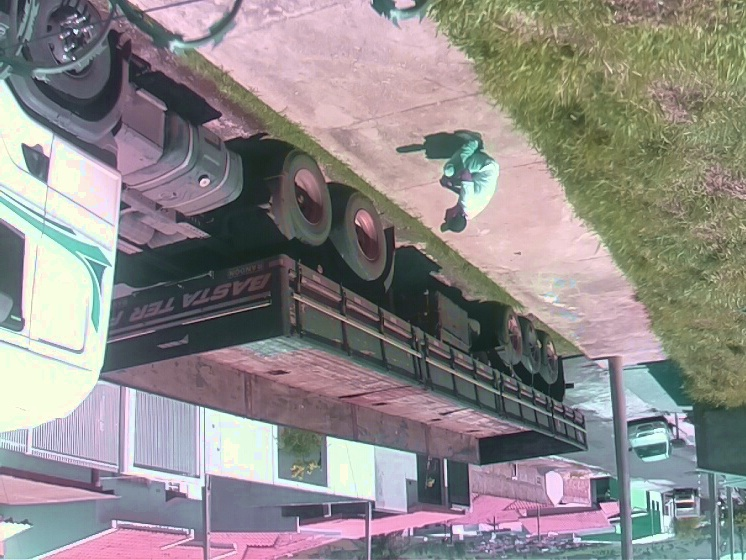person: (436, 124, 502, 235)
